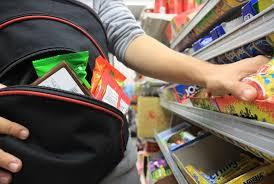shoplifting: (0, 5, 188, 153)
